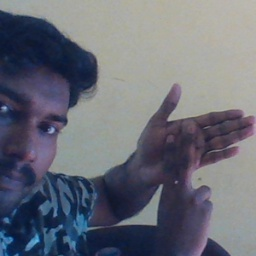N: (135, 79, 256, 222)
